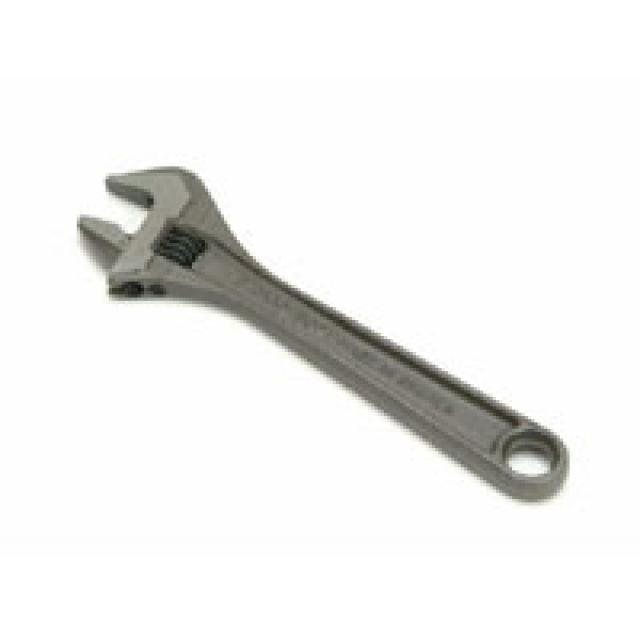wrench: (70, 158, 574, 513)
